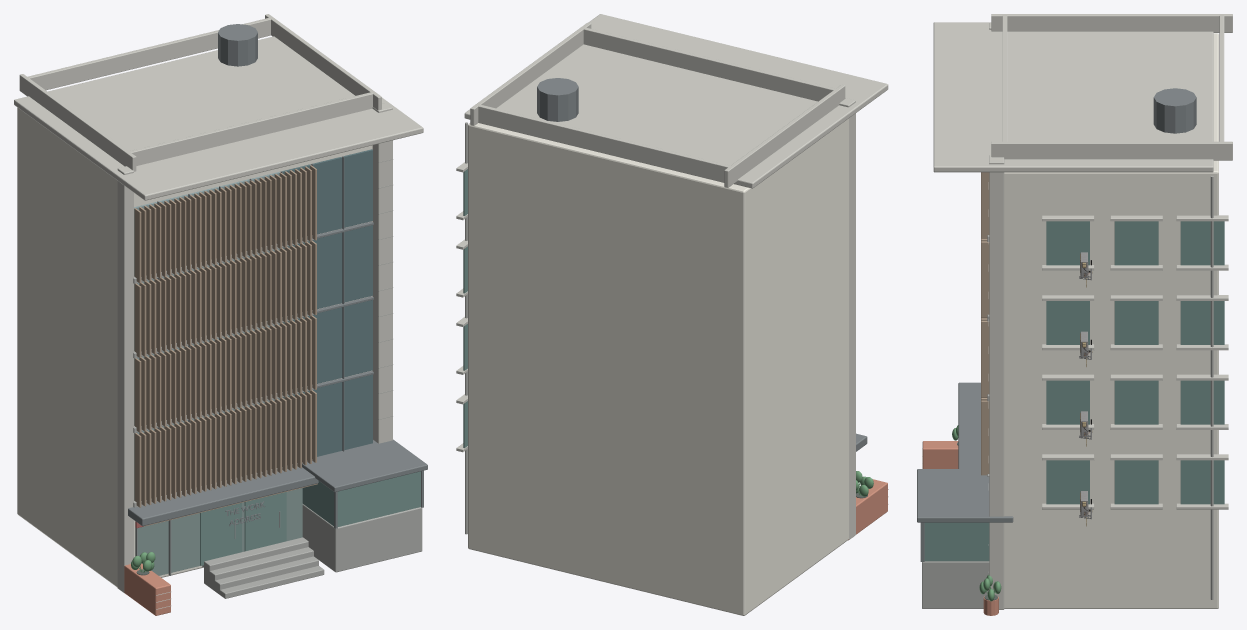
The model's file is grasim-office.glb.
3 views of the same model, side by side, from view 1: azimuth 30°, elevation 25°; view 2: azimuth 150°, elevation 25°; view 3: azimuth 270°, elevation 25° (orthographic). The views are drawn at different scales.
Parts seen in each view (by area): view 1: bronze_fins, limestone, ivory_stucco, glass_dark, stone_granite, charcoal, window_glass, office_glass, terracotta_tile, glass_blue; view 2: ivory_stucco, limestone, charcoal, terracotta_tile, window_glass, stone_granite; view 3: ivory_stucco, limestone, window_glass, charcoal, stone_granite, bronze_fins, terracotta_tile, exterior_aircon_unit_01, leaf_green.
Boxes of the visible parts, x1,y1,x2,y2 form: bronze_fins: [134, 165, 317, 526]; limestone: [14, 14, 423, 593]; ivory_stucco: [17, 107, 372, 586]; glass_dark: [282, 149, 372, 456]; stone_granite: [133, 159, 422, 598]; charcoal: [128, 24, 427, 528]; window_glass: [200, 471, 420, 565]; office_glass: [137, 488, 302, 575]; terracotta_tile: [117, 563, 170, 615]; glass_blue: [134, 172, 280, 500]; ivory_stucco: [468, 118, 848, 615]; limestone: [456, 14, 888, 539]; charcoal: [537, 78, 867, 451]; terracotta_tile: [848, 479, 887, 540]; window_glass: [463, 169, 467, 448]; stone_granite: [465, 122, 467, 534]; ivory_stucco: [1004, 33, 1218, 608]; limestone: [933, 14, 1232, 609]; window_glass: [924, 221, 1224, 561]; charcoal: [917, 88, 1196, 561]; stone_granite: [922, 176, 1213, 608]; bronze_fins: [981, 172, 989, 475]; terracotta_tile: [922, 441, 998, 615]; exterior_aircon_unit_01: [1079, 252, 1092, 526]; leaf_green: [952, 425, 1001, 601].
Bounding box in the file's own units: 13.18 × 19.2 × 11.5.
Materials: 19 (2 with a texture image).
